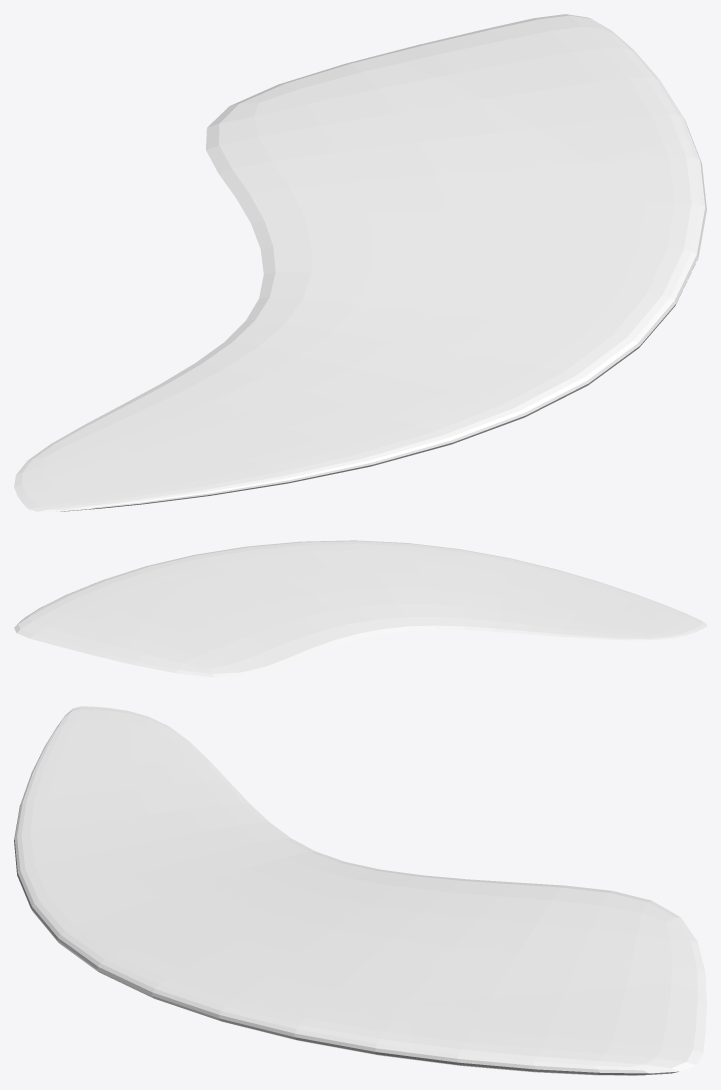
Rendered from Sword Swoosh.fbx.
3 views of the same model, one above another, from view 1: azimuth 30°, elevation 25°; view 2: azimuth 150°, elevation 25°; view 3: azimuth 270°, elevation 25° (orthographic). The views are drawn at different scales.
Parts seen in each view (by area): view 1: Sword Swoosh; view 2: Sword Swoosh; view 3: Sword Swoosh.
Part boxes in pixels (box(x1,y1,x2,y2)): Sword Swoosh: box(14, 14, 706, 511); Sword Swoosh: box(14, 540, 706, 677); Sword Swoosh: box(14, 706, 706, 1075).
Bounding box in the file's own units: 153 × 6.51 × 115.
